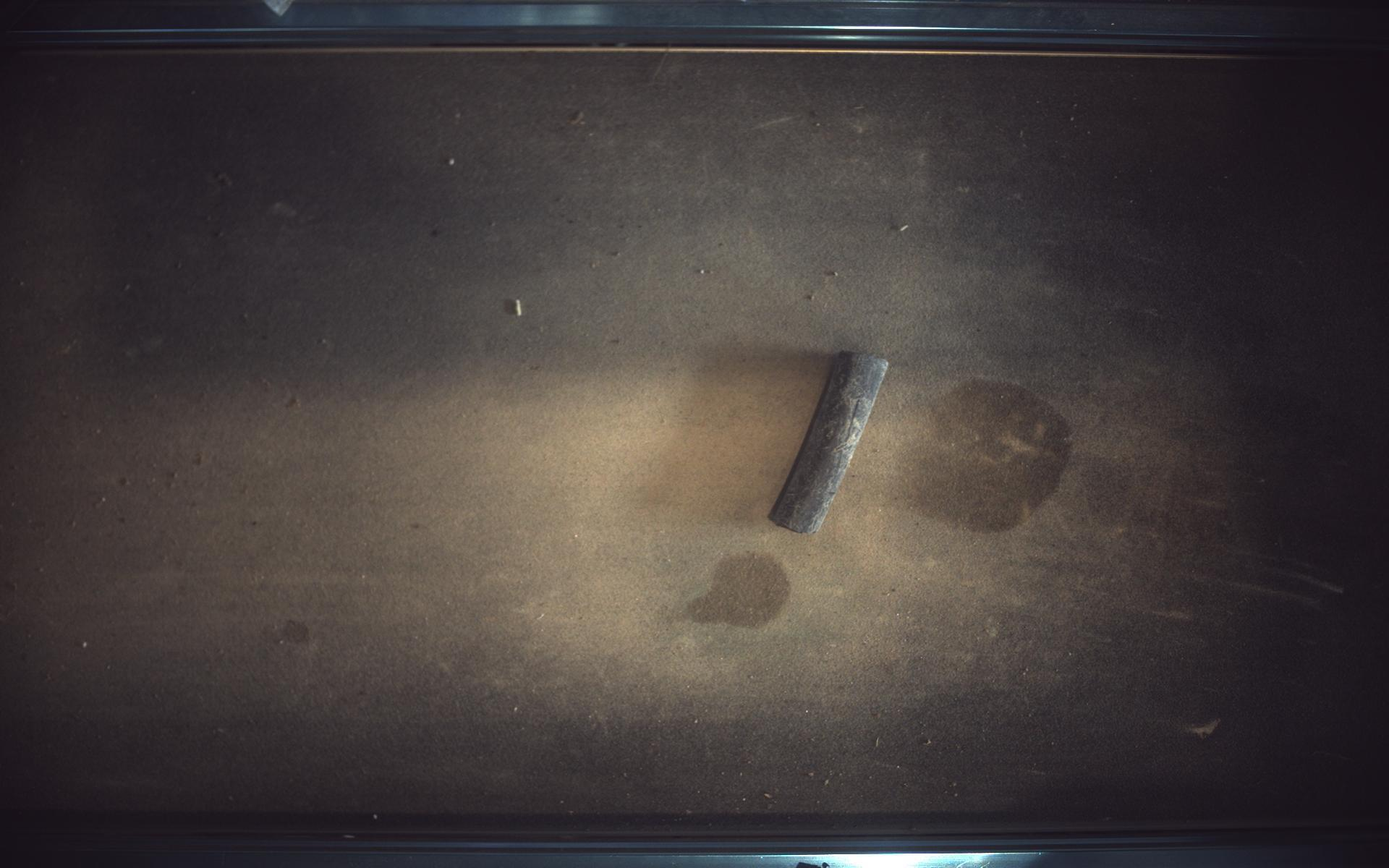pipes: (770, 351, 891, 534)
